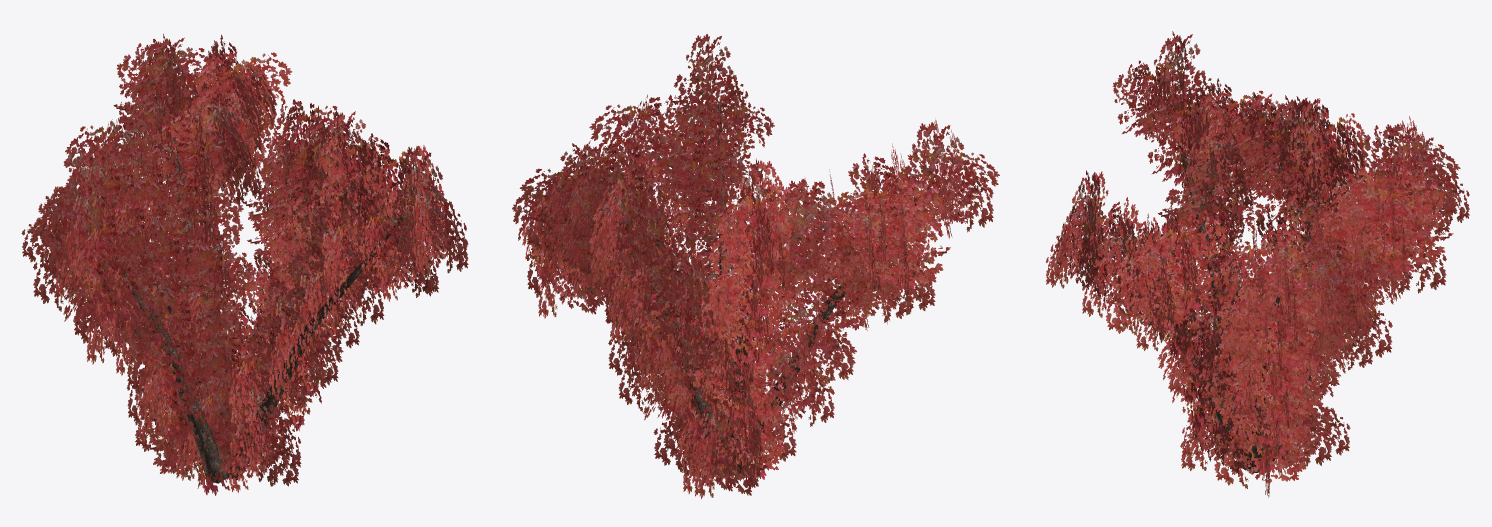
File: bush_3d_03_red_lod0.glb
The picture shows the model from 3 angles, left to right: view 1: azimuth 30°, elevation 25°; view 2: azimuth 150°, elevation 25°; view 3: azimuth 270°, elevation 25°; orthographic projection. The views are drawn at different scales.
Parts seen in each view (by area): view 1: foliage_cards, wood_geometry; view 2: foliage_cards, wood_geometry; view 3: foliage_cards, wood_geometry.
Part boxes in pixels (x1,y1,x2,y2): foliage_cards: (21,34,468,495); wood_geometry: (105,79,403,483); foliage_cards: (512,34,999,498); wood_geometry: (580,103,934,475); foliage_cards: (1045,31,1469,497); wood_geometry: (1097,99,1420,472).
Size of the model in its own units: 2.39 by 2.09 by 2.27.
Materials: 2 (2 with a texture image).
